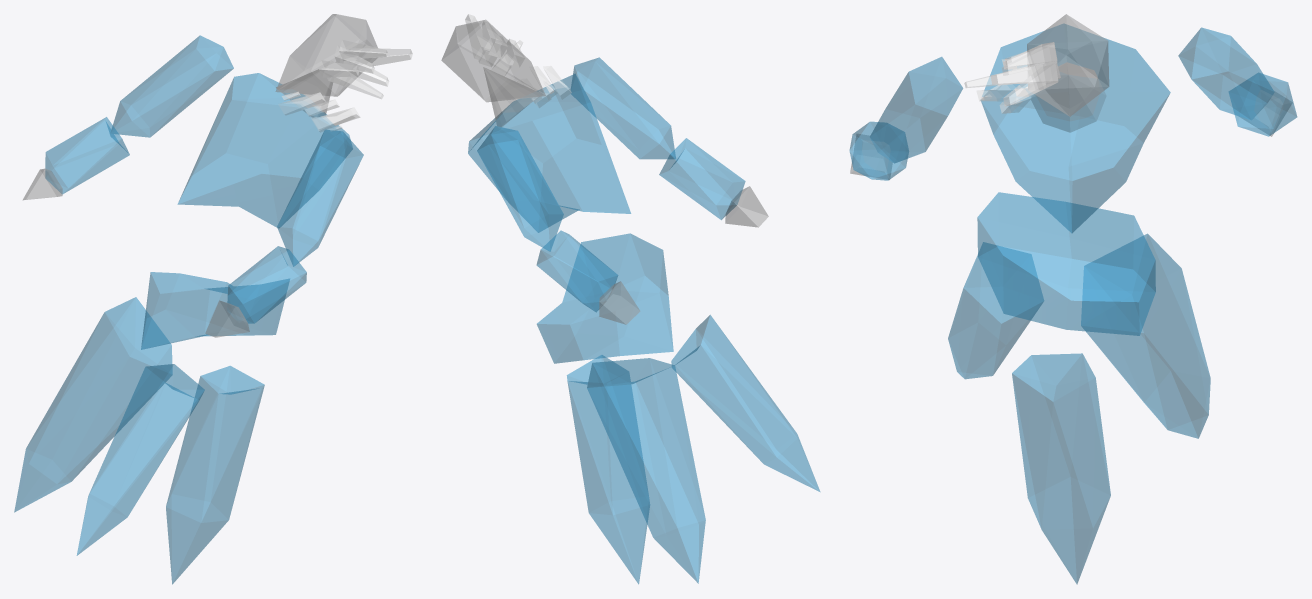
The model's file is ghostChargingLunge13.obj.
The picture shows the model from 3 angles, left to right: view 1: azimuth 30°, elevation 25°; view 2: azimuth 150°, elevation 25°; view 3: azimuth 270°, elevation 25°; orthographic projection. The views are drawn at different scales.
Parts seen in each view (by area): view 1: Cube.001_Cube.006, Icosphere.017, Icosphere.016, Icosphere.015, Cube_Cube.006, Icosphere.007_Icosphere.005, Icosphere.005_Icosphere.005, Icosphere.003_Icosphere.006, Icosphere.006_Icosphere.005, Icosphere.008_Icosphere.005, Cone_Cone.006, Cube.002_Cube.006 (+8 smaller); view 2: Cube.001_Cube.006, Icosphere.017, Cube_Cube.006, Icosphere.016, Icosphere.015, Icosphere.005_Icosphere.005, Icosphere.007_Icosphere.005, Icosphere.003_Icosphere.006, Icosphere.006_Icosphere.005, Icosphere.008_Icosphere.005, Cone_Cone.006, Cube.002_Cube.006 (+2 smaller); view 3: Cube.001_Cube.006, Cube_Cube.006, Icosphere.017, Icosphere.016, Icosphere.015, Icosphere.003_Icosphere.006, Icosphere.005_Icosphere.005, Icosphere.007_Icosphere.005, Cone_Cone.006, Icosphere.008_Icosphere.005, Icosphere.006_Icosphere.005, Cube.002_Cube.006 (+5 smaller).
Part boxes in pixels (x1,y1,x2,y2): Cube.001_Cube.006: [177, 73, 352, 227]; Icosphere.017: [14, 297, 172, 512]; Icosphere.016: [166, 366, 264, 584]; Icosphere.015: [76, 364, 204, 555]; Cube_Cube.006: [141, 272, 289, 349]; Icosphere.007_Icosphere.005: [111, 35, 233, 137]; Icosphere.005_Icosphere.005: [277, 129, 363, 266]; Icosphere.003_Icosphere.006: [275, 14, 377, 96]; Icosphere.006_Icosphere.005: [227, 246, 306, 323]; Icosphere.008_Icosphere.005: [45, 117, 129, 194]; Cone_Cone.006: [276, 62, 336, 117]; Cube.002_Cube.006: [205, 300, 249, 337]; Cube.001_Cube.006: [468, 73, 630, 232]; Icosphere.017: [587, 358, 705, 583]; Cube_Cube.006: [537, 233, 673, 363]; Icosphere.016: [567, 355, 649, 584]; Icosphere.015: [671, 315, 820, 491]; Icosphere.005_Icosphere.005: [571, 57, 675, 159]; Icosphere.007_Icosphere.005: [477, 126, 563, 251]; Icosphere.003_Icosphere.006: [441, 19, 545, 102]; Icosphere.006_Icosphere.005: [659, 138, 745, 219]; Icosphere.008_Icosphere.005: [536, 230, 618, 312]; Cone_Cone.006: [483, 67, 539, 126]; Cube.002_Cube.006: [725, 186, 768, 227]; Cube.001_Cube.006: [981, 24, 1170, 233]; Cube_Cube.006: [977, 192, 1155, 335]; Icosphere.017: [1081, 233, 1210, 438]; Icosphere.016: [1012, 353, 1110, 584]; Icosphere.015: [948, 242, 1043, 379]; Icosphere.003_Icosphere.006: [1027, 14, 1109, 116]; Icosphere.005_Icosphere.005: [870, 57, 962, 163]; Icosphere.007_Icosphere.005: [1178, 27, 1274, 120]; Cone_Cone.006: [1031, 62, 1106, 132]; Icosphere.008_Icosphere.005: [1229, 73, 1297, 136]; Icosphere.006_Icosphere.005: [849, 121, 908, 180]; Cube.002_Cube.006: [850, 134, 892, 179].
Bounding box in the file's own units: 32.3 × 47.21 × 28.66.
